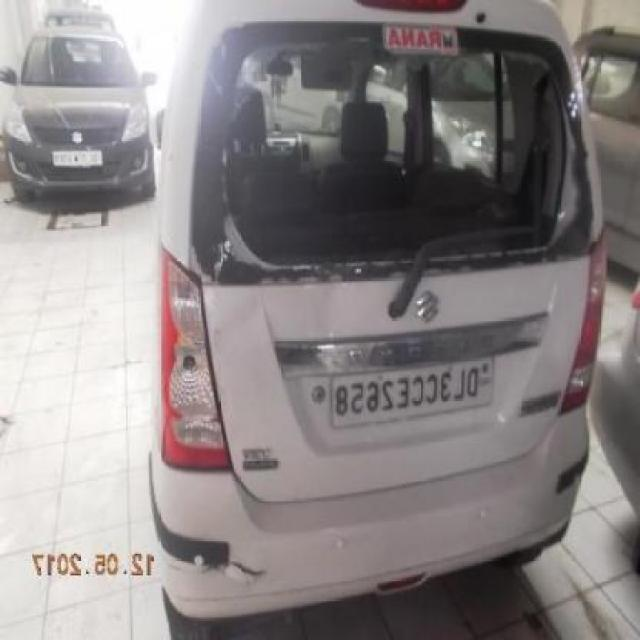damage: (196, 29, 586, 287), (163, 557, 267, 584)
